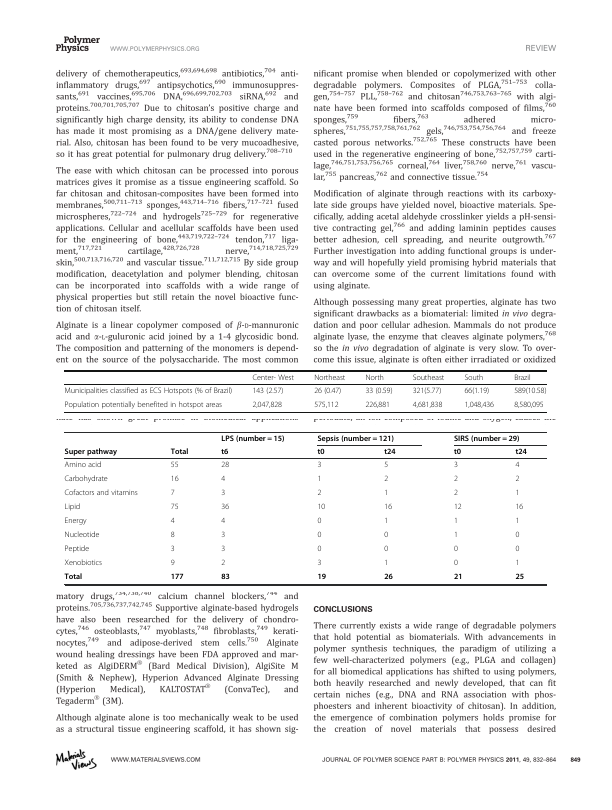borderless: (63, 430, 546, 584), (64, 369, 547, 412)
cell: (64, 386, 233, 396), (64, 400, 223, 410), (64, 488, 139, 498), (316, 434, 395, 443), (453, 434, 520, 443), (220, 434, 285, 443), (64, 447, 118, 457), (64, 474, 109, 484), (251, 373, 295, 382), (64, 558, 103, 568), (64, 460, 102, 470), (64, 530, 100, 540), (513, 386, 547, 396), (251, 386, 284, 396), (251, 400, 283, 410), (463, 400, 495, 410), (513, 400, 545, 410), (412, 400, 443, 410), (412, 386, 442, 396), (313, 373, 346, 382), (412, 373, 445, 382), (313, 386, 342, 396), (364, 386, 393, 396), (463, 386, 490, 396), (364, 400, 391, 410), (313, 400, 339, 410), (64, 544, 90, 554), (64, 516, 87, 526), (170, 447, 189, 457), (64, 572, 83, 582), (364, 373, 385, 382), (463, 373, 484, 382), (513, 373, 532, 382), (64, 502, 81, 512), (383, 447, 397, 457), (514, 447, 528, 457), (170, 572, 184, 582), (220, 572, 231, 582), (316, 572, 327, 582), (383, 572, 394, 582), (514, 572, 525, 582), (220, 460, 230, 470), (220, 502, 230, 512), (316, 502, 326, 512), (383, 502, 393, 512), (453, 502, 463, 512), (514, 502, 524, 512), (453, 572, 463, 582), (220, 447, 229, 457), (316, 447, 325, 457), (453, 447, 462, 457), (170, 460, 179, 470), (170, 474, 179, 484), (170, 502, 179, 512), (316, 460, 322, 470), (383, 460, 389, 470), (453, 460, 459, 470), (514, 460, 520, 470), (220, 474, 226, 484), (316, 474, 322, 484), (383, 474, 389, 484), (453, 474, 459, 484), (514, 474, 520, 484), (170, 488, 176, 498), (220, 488, 226, 498), (316, 488, 322, 498), (383, 488, 389, 498), (453, 488, 459, 498), (514, 488, 520, 498), (170, 516, 176, 526), (220, 516, 226, 526), (316, 516, 322, 526), (383, 516, 389, 526), (453, 516, 459, 526), (514, 516, 520, 526), (170, 530, 176, 540), (220, 530, 226, 540), (316, 530, 322, 540), (383, 530, 389, 540), (453, 530, 459, 540), (514, 530, 520, 540), (170, 544, 176, 554), (220, 544, 226, 554), (316, 544, 322, 554), (383, 544, 389, 554), (453, 544, 459, 554), (514, 544, 520, 554), (170, 558, 176, 568), (220, 558, 226, 568), (316, 558, 322, 568), (383, 558, 389, 568), (453, 558, 459, 568), (514, 558, 520, 568)
